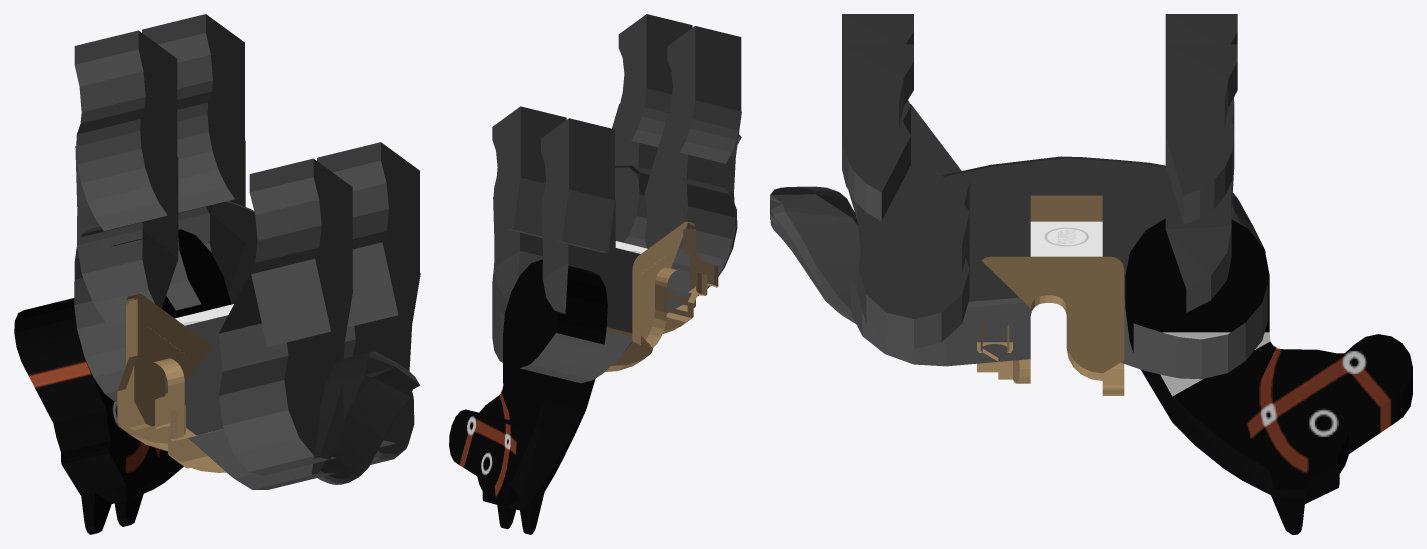
The picture shows the model from 3 angles, left to right: view 1: azimuth 30°, elevation 25°; view 2: azimuth 150°, elevation 25°; view 3: azimuth 270°, elevation 25°; orthographic projection. The views are drawn at different scales.
Visible parts, largest first — view 1: 012_shape3, 040_shape14, 019_shape8, 031_shape12, 028_shape10, 025_shape8, 037_shape12, 016_shape6, 043_shape16, 022_shape6, 034_shape10; view 2: 040_shape14, 012_shape3, 028_shape10, 019_shape8, 031_shape12, 025_shape8, 037_shape12, 034_shape10, 016_shape6, 022_shape6; view 3: 012_shape3, 040_shape14, 034_shape10, 025_shape8, 037_shape12, 043_shape16, 022_shape6, 031_shape12, 019_shape8, 028_shape10.
Boxes of the visible parts, bbox=[...] form: 012_shape3: bbox=[74, 201, 414, 489]; 040_shape14: bbox=[14, 229, 231, 534]; 019_shape8: bbox=[74, 30, 177, 230]; 031_shape12: bbox=[249, 158, 352, 347]; 028_shape10: bbox=[218, 273, 353, 475]; 025_shape8: bbox=[142, 14, 244, 212]; 037_shape12: bbox=[317, 142, 419, 327]; 016_shape6: bbox=[75, 130, 178, 326]; 043_shape16: bbox=[311, 351, 420, 484]; 022_shape6: bbox=[166, 114, 245, 310]; 034_shape10: bbox=[330, 273, 420, 459]; 040_shape14: bbox=[449, 259, 607, 534]; 012_shape3: bbox=[492, 165, 737, 383]; 028_shape10: bbox=[645, 100, 741, 271]; 019_shape8: bbox=[541, 118, 614, 252]; 031_shape12: bbox=[667, 26, 741, 163]; 025_shape8: bbox=[492, 106, 566, 237]; 037_shape12: bbox=[618, 14, 692, 147]; 034_shape10: bbox=[612, 88, 671, 248]; 016_shape6: bbox=[541, 200, 615, 313]; 022_shape6: bbox=[493, 197, 542, 299]; 012_shape3: bbox=[851, 156, 1267, 395]; 040_shape14: bbox=[1125, 218, 1412, 534]; 034_shape10: bbox=[842, 134, 969, 348]; 025_shape8: bbox=[1165, 44, 1237, 224]; 037_shape12: bbox=[842, 44, 913, 220]; 043_shape16: bbox=[770, 186, 860, 324]; 022_shape6: bbox=[1165, 165, 1234, 312]; 031_shape12: bbox=[842, 14, 913, 134]; 019_shape8: bbox=[1165, 14, 1237, 131]; 028_shape10: bbox=[858, 104, 969, 268].
Size of the model in its own units: 2.56 by 5.92 by 7.15.
Materials: 5 (2 with a texture image).
